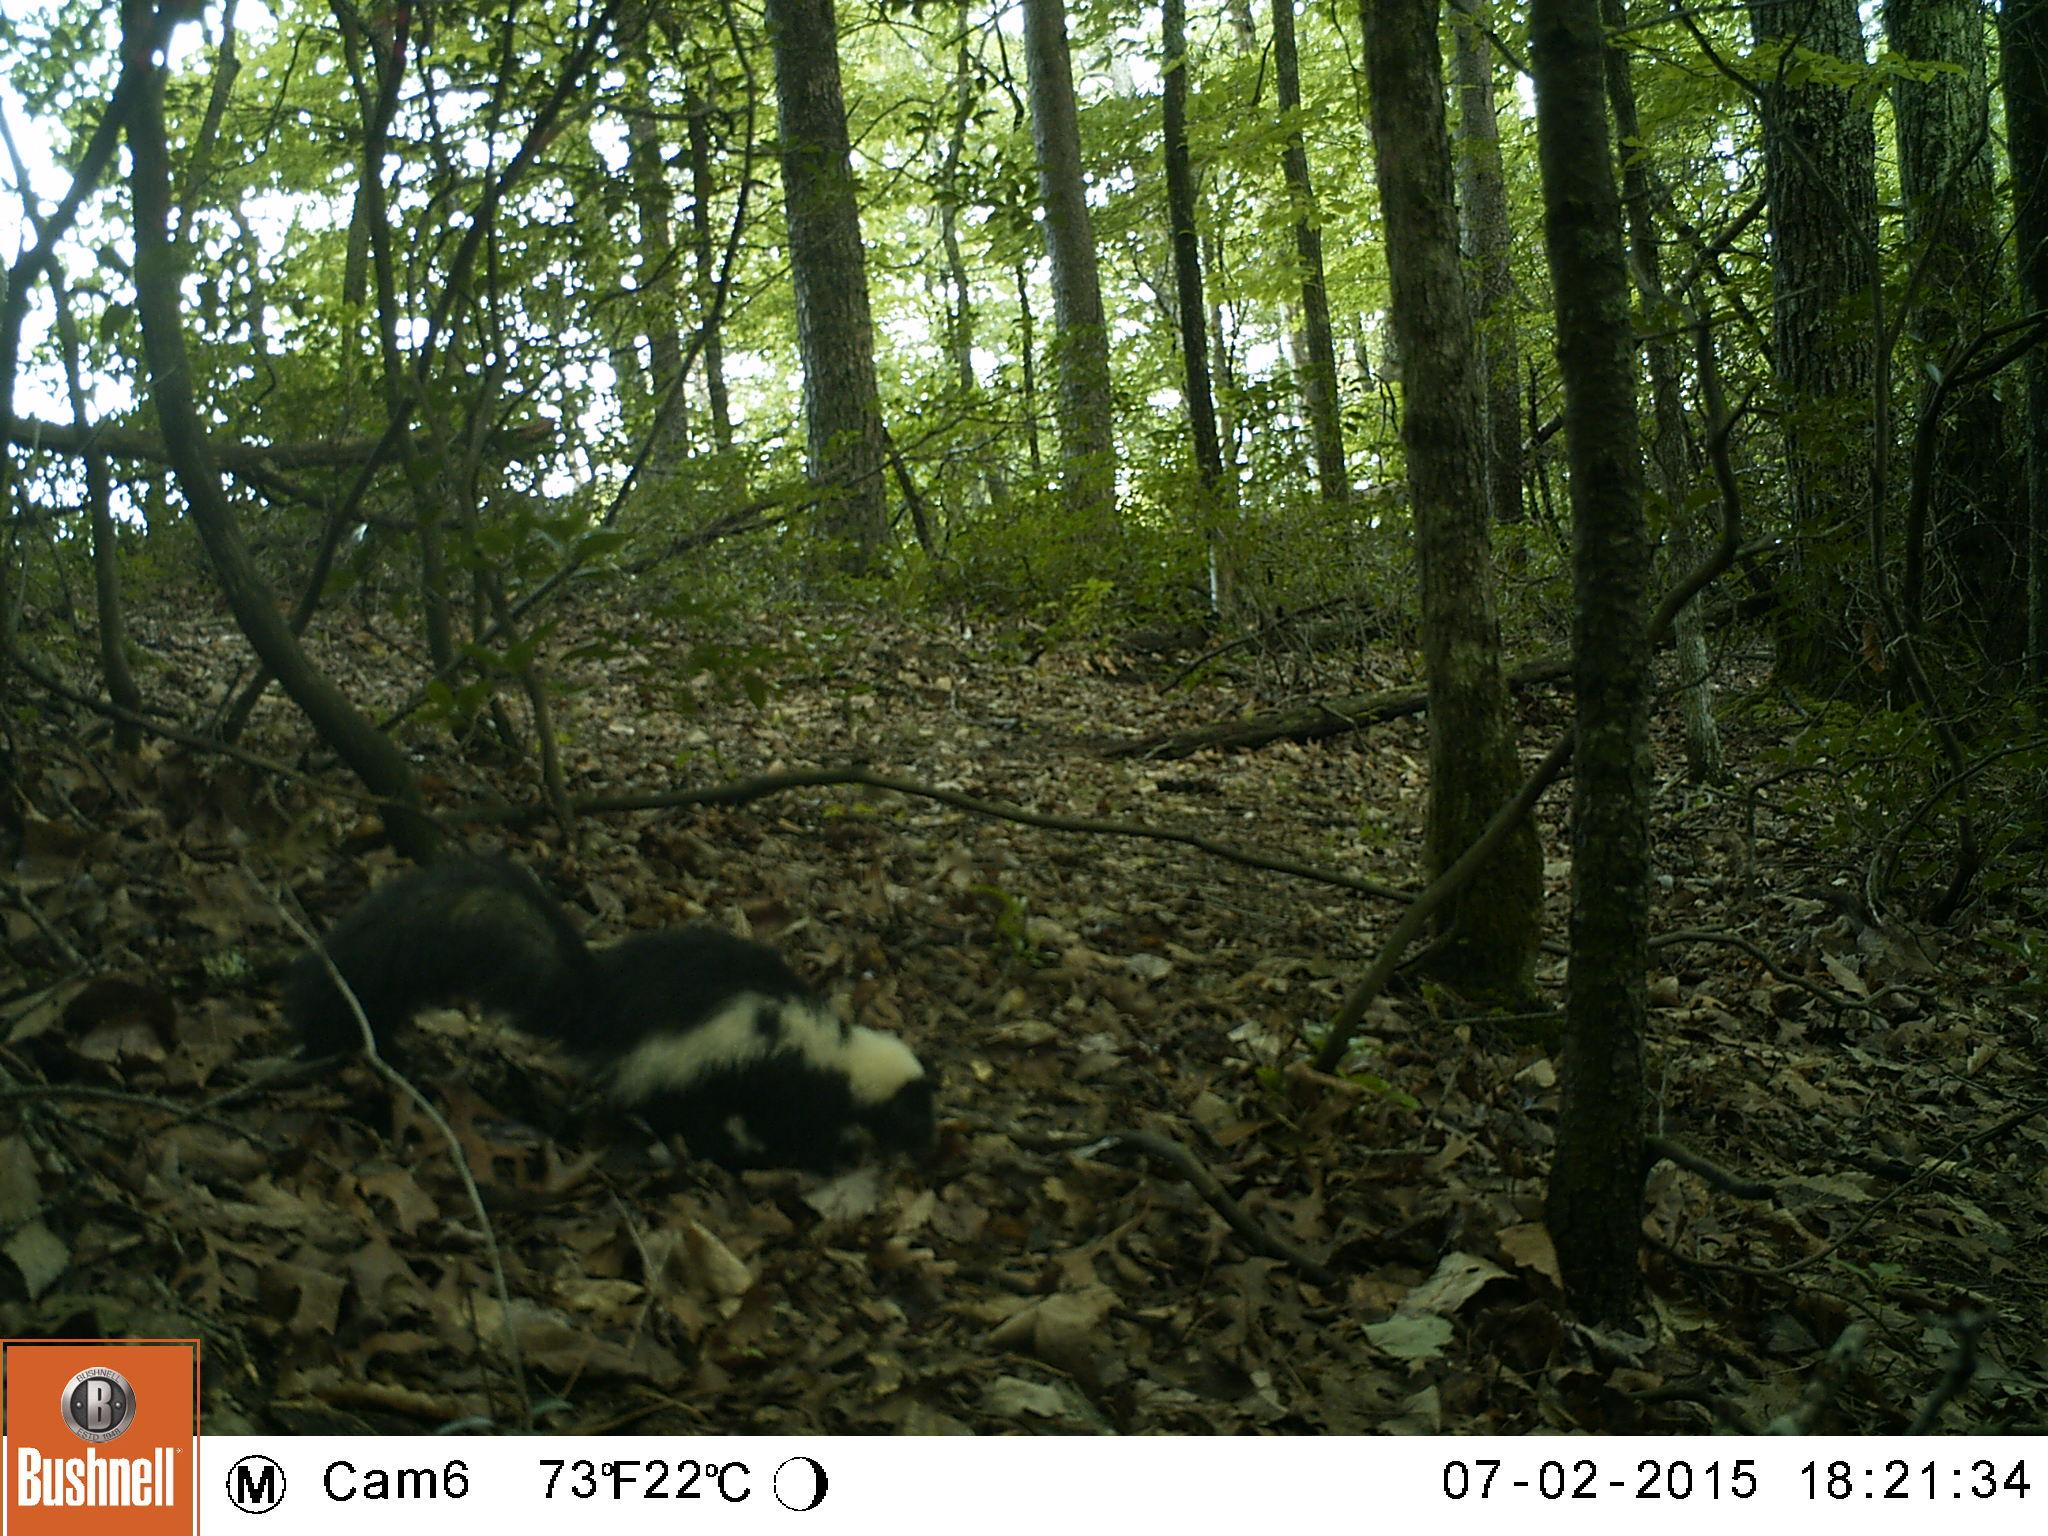Animal: (281, 855, 940, 1160)
